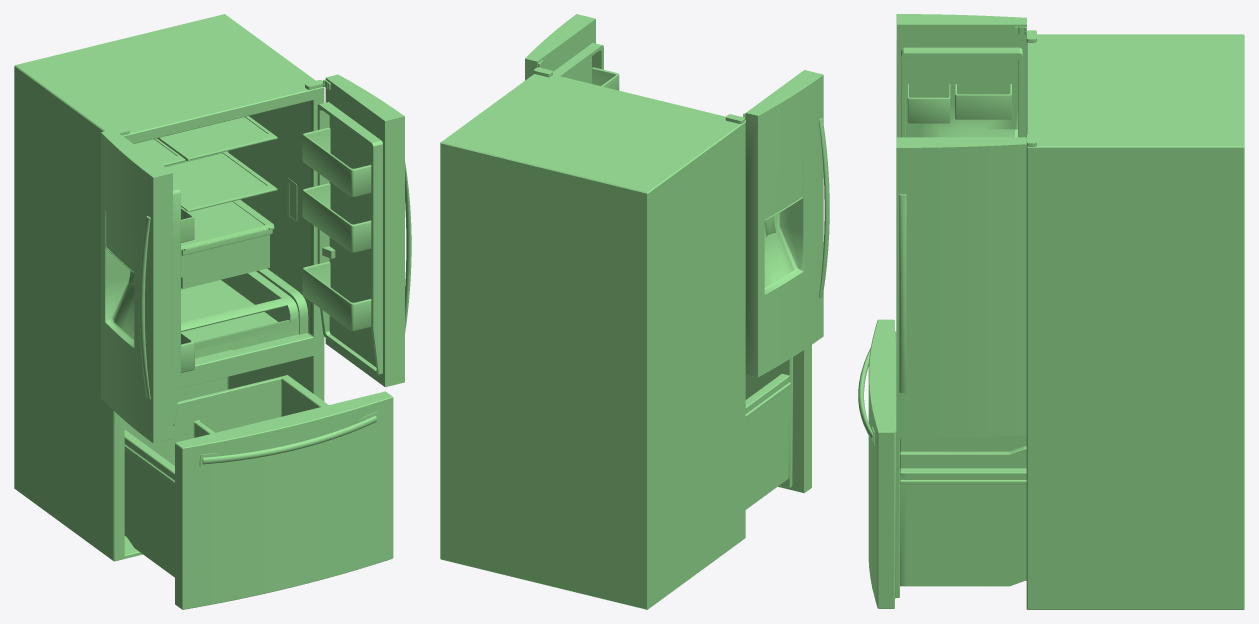
File: Samsung_Fridge_high.FBX
The picture shows the model from 3 angles, left to right: view 1: azimuth 30°, elevation 25°; view 2: azimuth 150°, elevation 25°; view 3: azimuth 270°, elevation 25°; orthographic projection. The views are drawn at different scales.
Visible parts, largest first — view 1: Att_00_high, Att_11_high, Att_12_high, Att_13_high, Att_30_high, Att_05_high, Att_02_high, Att_25_high, Att_03_high, Att_20_high, Att_06_high, Att_21_high (+5 smaller); view 2: Att_00_high, Att_12_high, Att_11_high, Att_13_high, Att_16_high; view 3: Att_00_high, Att_13_high, Att_11_high, Att_12_high, Att_18_high, Att_24_high, Att_23_high, Att_17_high.
Boxes of the visible parts, bbox=[...] form: Att_00_high: bbox=[14, 14, 324, 561]; Att_11_high: bbox=[124, 375, 393, 609]; Att_12_high: bbox=[101, 129, 180, 443]; Att_13_high: bbox=[317, 74, 404, 387]; Att_30_high: bbox=[181, 271, 298, 358]; Att_05_high: bbox=[164, 151, 277, 211]; Att_02_high: bbox=[181, 229, 272, 288]; Att_25_high: bbox=[157, 116, 277, 160]; Att_03_high: bbox=[181, 199, 274, 250]; Att_20_high: bbox=[302, 183, 371, 252]; Att_06_high: bbox=[302, 127, 371, 197]; Att_21_high: bbox=[302, 261, 371, 331]; Att_00_high: bbox=[440, 74, 745, 609]; Att_12_high: bbox=[745, 70, 823, 377]; Att_11_high: bbox=[745, 345, 811, 509]; Att_13_high: bbox=[525, 14, 603, 83]; Att_16_high: bbox=[819, 118, 829, 298]; Att_00_high: bbox=[1026, 34, 1244, 609]; Att_13_high: bbox=[896, 137, 1026, 438]; Att_11_high: bbox=[868, 319, 1026, 608]; Att_12_high: bbox=[896, 14, 1026, 137]; Att_18_high: bbox=[899, 194, 906, 392]; Att_24_high: bbox=[955, 84, 1011, 119]; Att_23_high: bbox=[907, 84, 950, 123]; Att_17_high: bbox=[858, 347, 873, 442].
Size of the model in its own units: 45.65 by 70.48 by 51.8.
